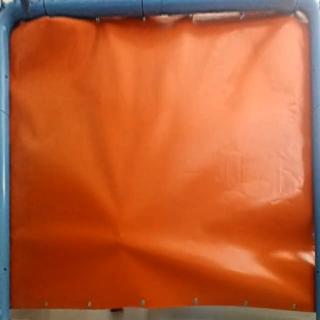Hit-hRxx: (116, 234, 129, 246)
